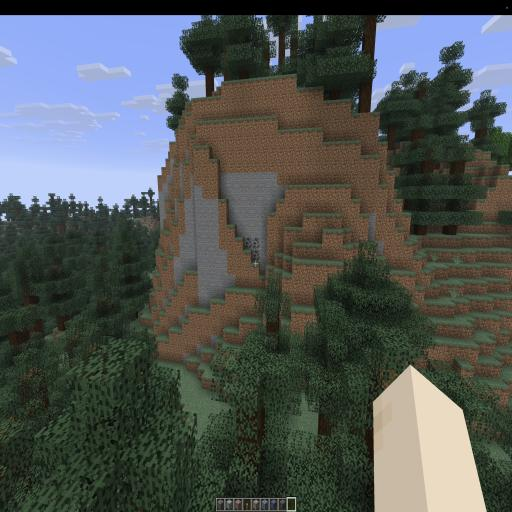coal ore: (242, 236, 261, 264)
